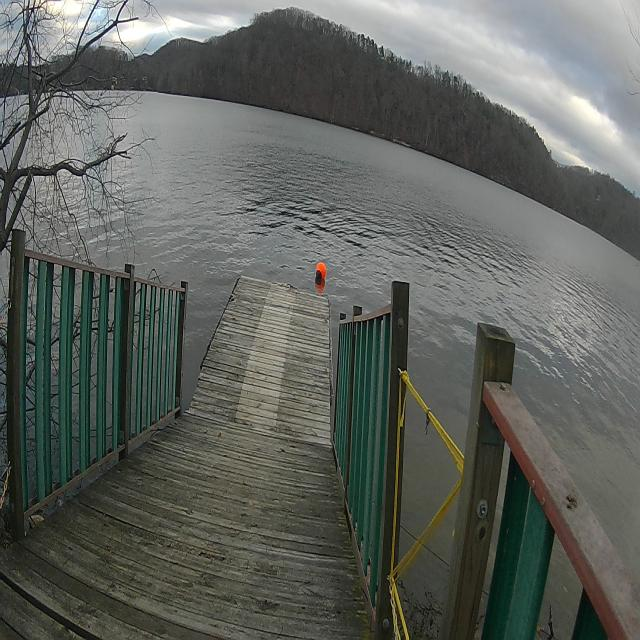Buoy: (313, 259, 327, 286)
